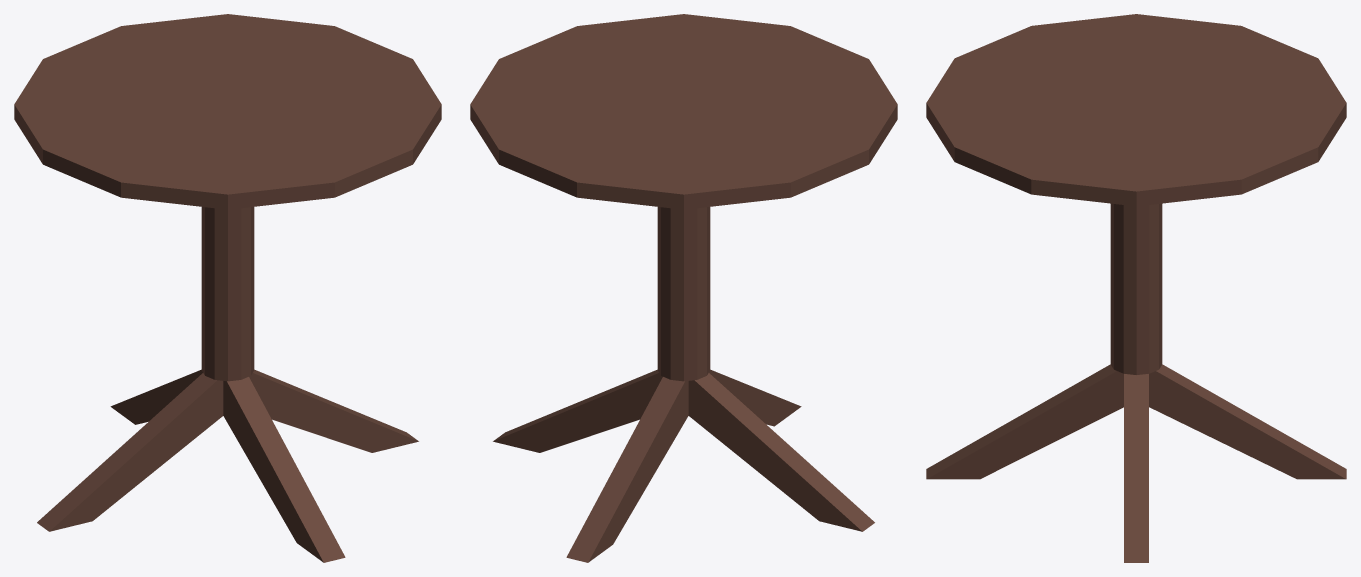
3 views of the same model, side by side, from view 1: azimuth 30°, elevation 25°; view 2: azimuth 150°, elevation 25°; view 3: azimuth 270°, elevation 25° (orthographic).
Parts seen in each view (by area): view 1: node_MeshObject1331332352-PolyPaper20; view 2: node_MeshObject1331332352-PolyPaper20; view 3: node_MeshObject1331332352-PolyPaper20.
Part boxes in pixels (x1=…): node_MeshObject1331332352-PolyPaper20: x1=14, y1=14, x2=441, y2=562; node_MeshObject1331332352-PolyPaper20: x1=470, y1=14, x2=897, y2=562; node_MeshObject1331332352-PolyPaper20: x1=926, y1=14, x2=1346, y2=562.
Size of the model in its own units: 1.02 by 0.995 by 1.02.
